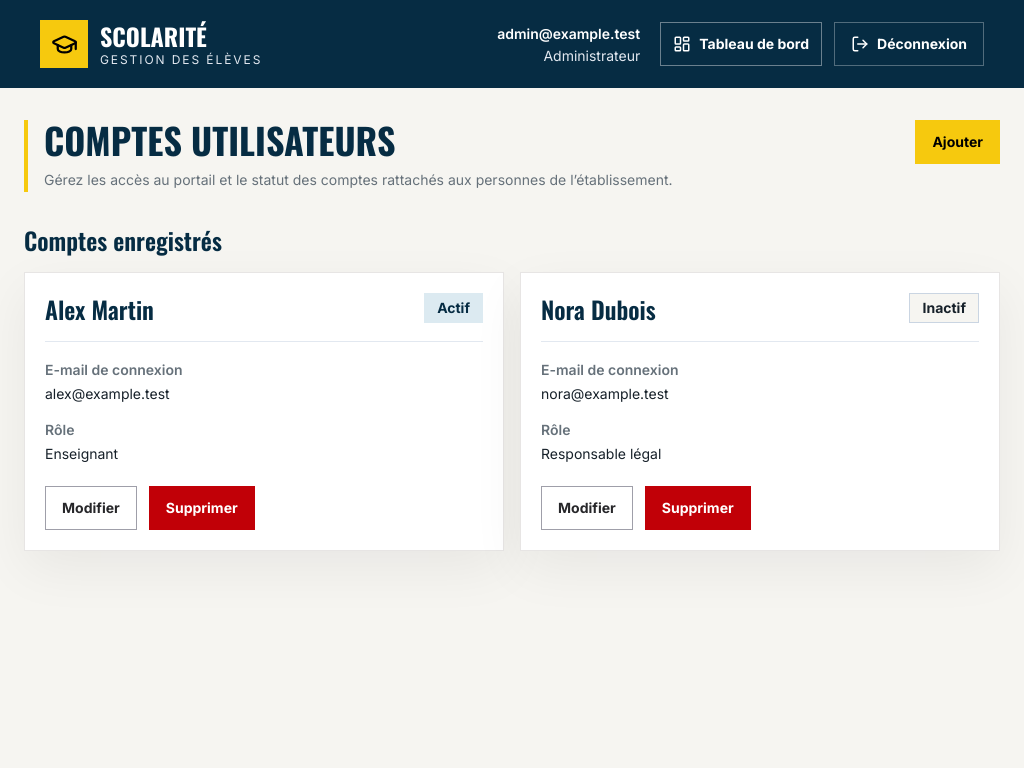
Test: comptes utilisateurs › annule sans enregistrement et ouvre une création sans ancien mot de passe
The width and height of the screenshot is (1024, 768).
Click the button "Ajouter" at (958, 142), box [915, 120, 1000, 164]
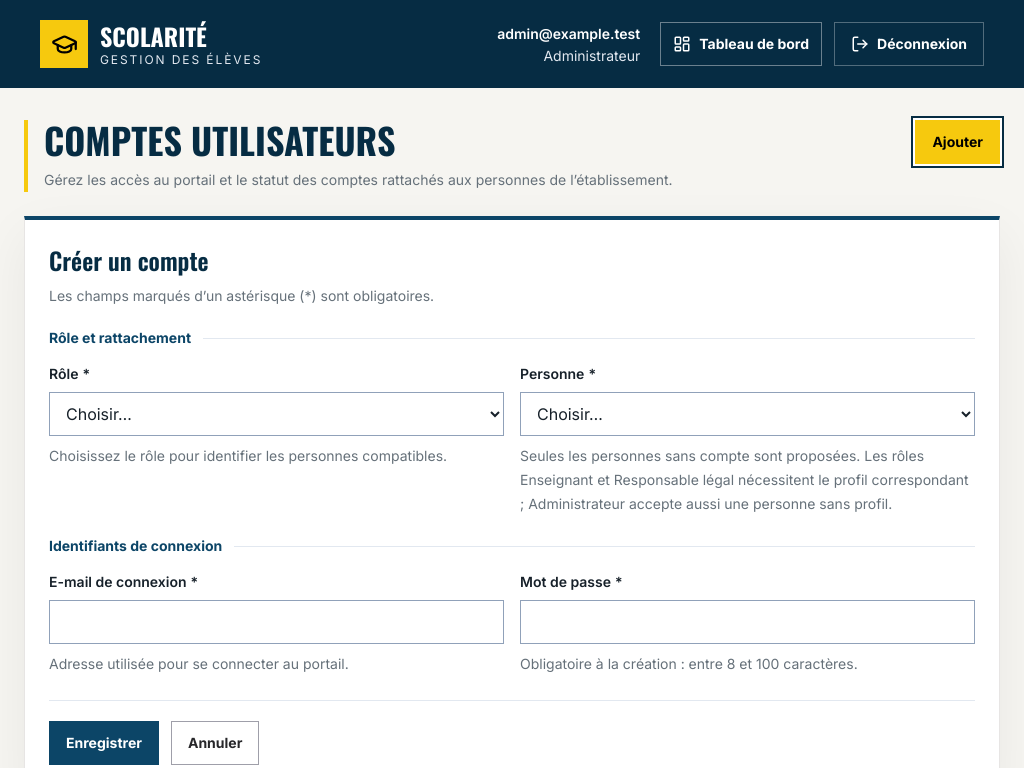
Select "Responsable légal" in the dropdown labelled "Rôle" at (276, 414), box [49, 392, 504, 436]
Select "Camille Durand · Enseignant · Responsable légal" in the dropdown labelled "Personne" at (748, 414), box [520, 392, 975, 436]
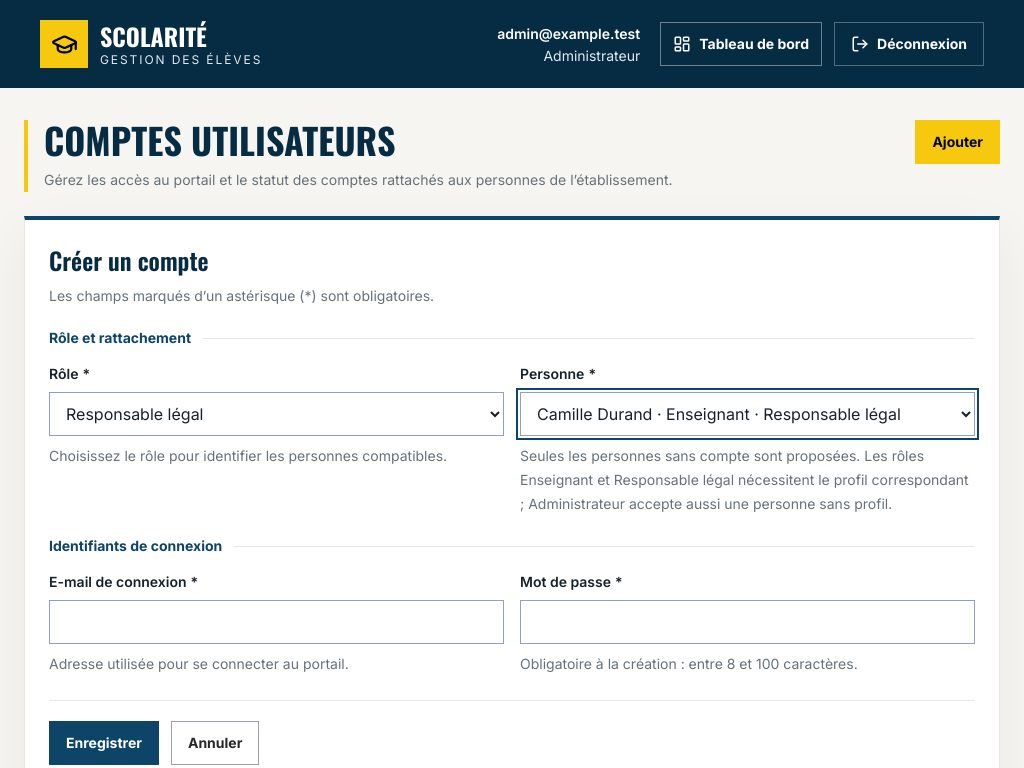
Type "camille@example.test" into the field labelled "E-mail de connexion" at (276, 622), box [49, 600, 504, 644]
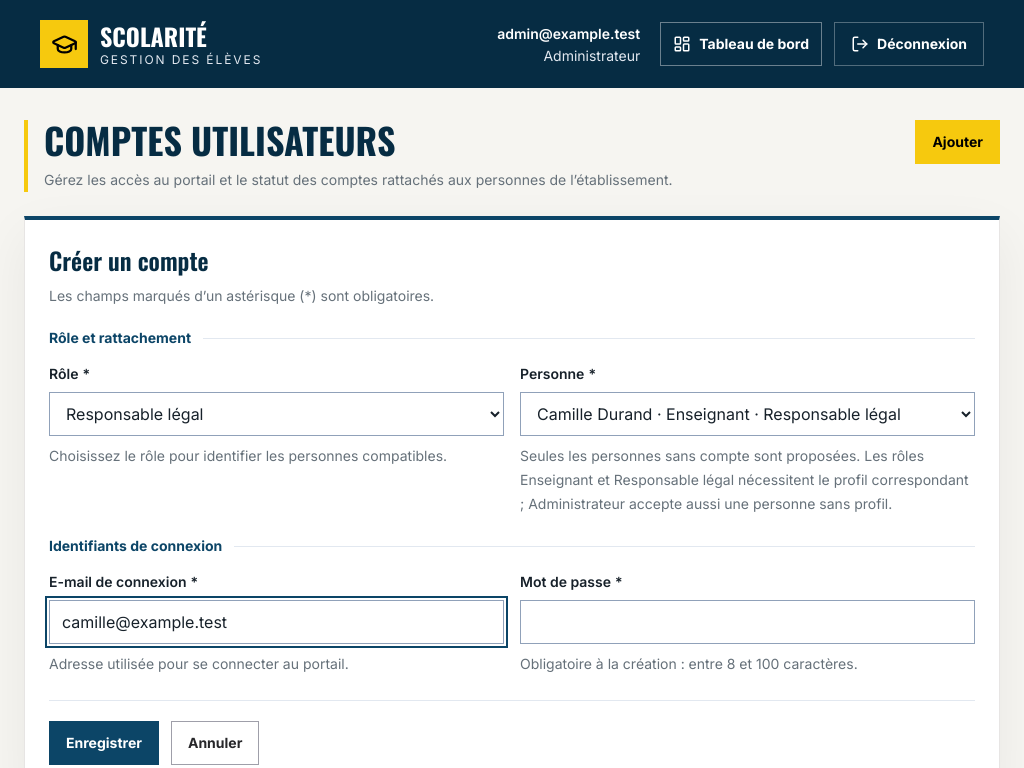
Type "Nouveau123!" into the password field labelled "Mot de passe" at (748, 622), box [520, 600, 975, 644]
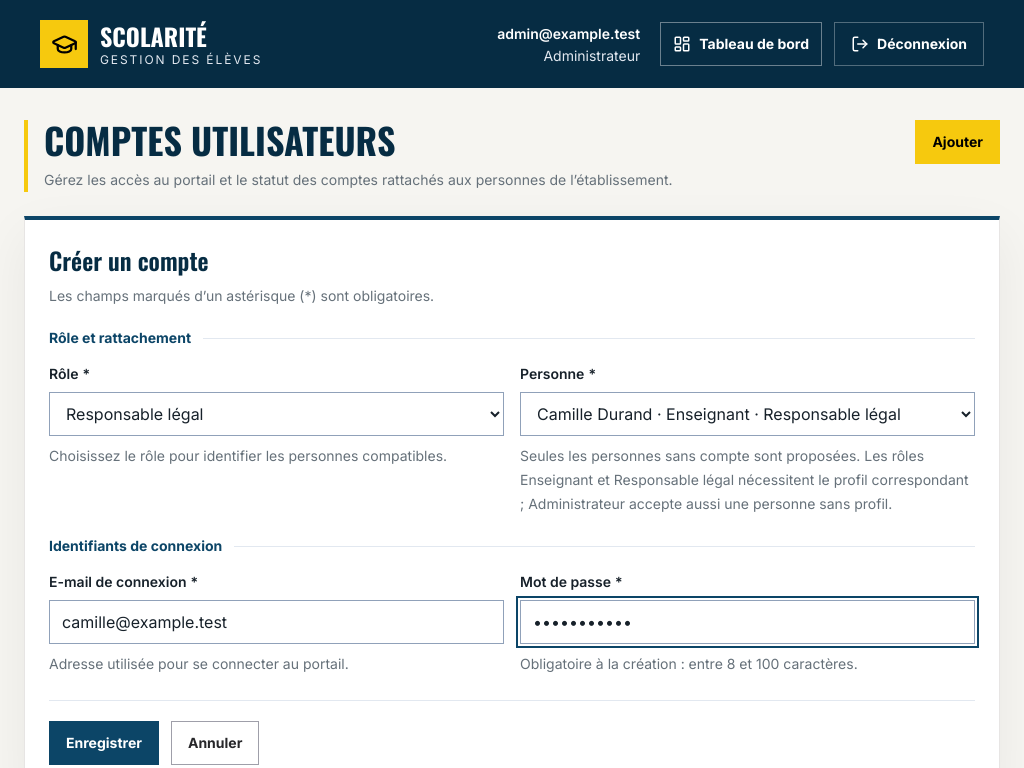
Click the button "Annuler" at (215, 743), box [171, 721, 259, 765]
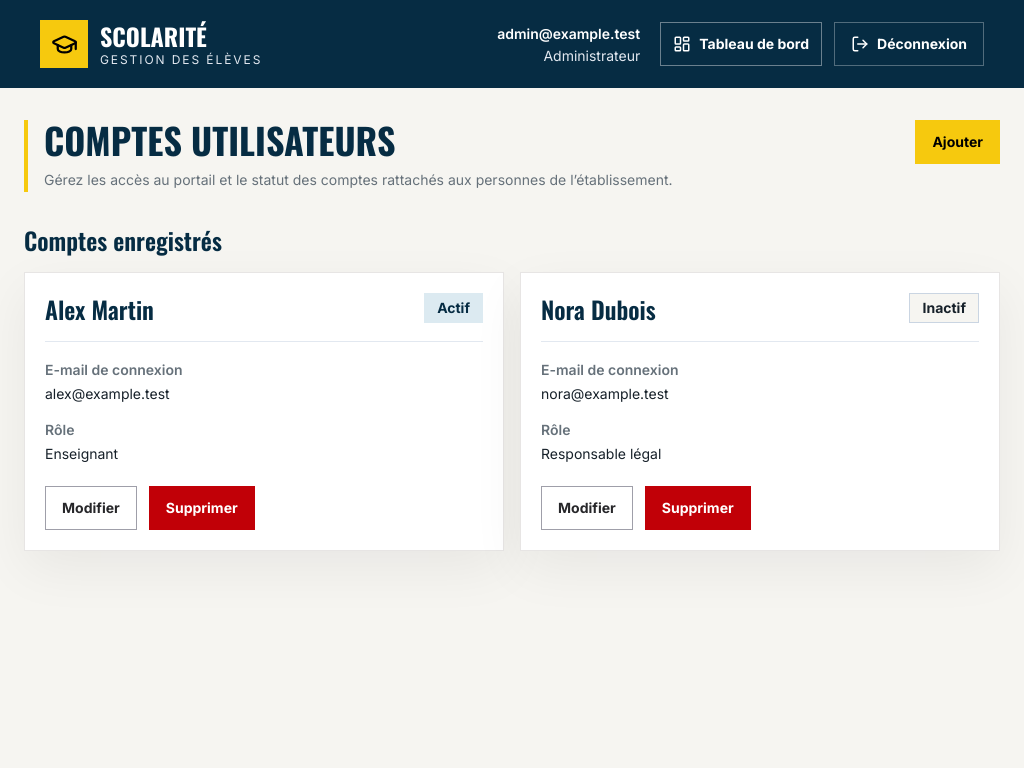
Click the button "Ajouter" at (958, 142), box [915, 120, 1000, 164]
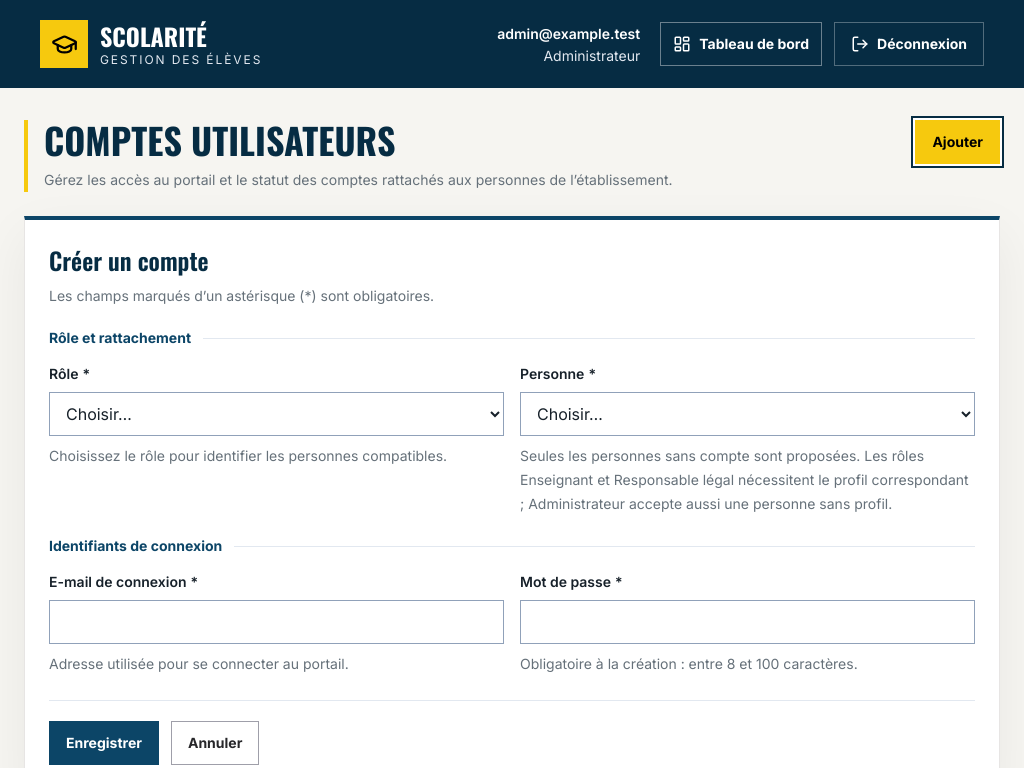
Check: the password field labelled "Mot de passe" is empty, box [520, 600, 975, 644]
Check: the dropdown labelled "Rôle" shows "Choisir…", box [49, 392, 504, 436]
